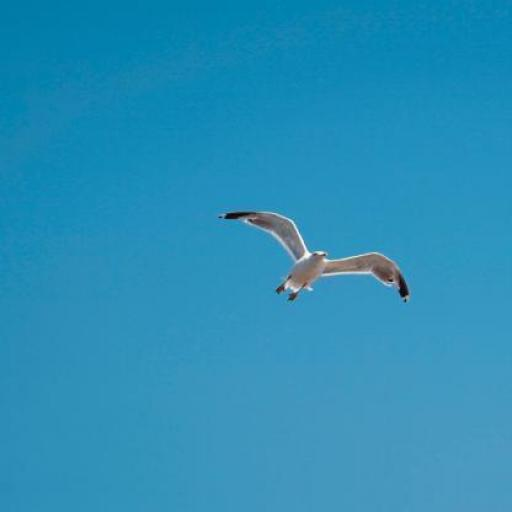bird: (218, 212, 411, 304)
